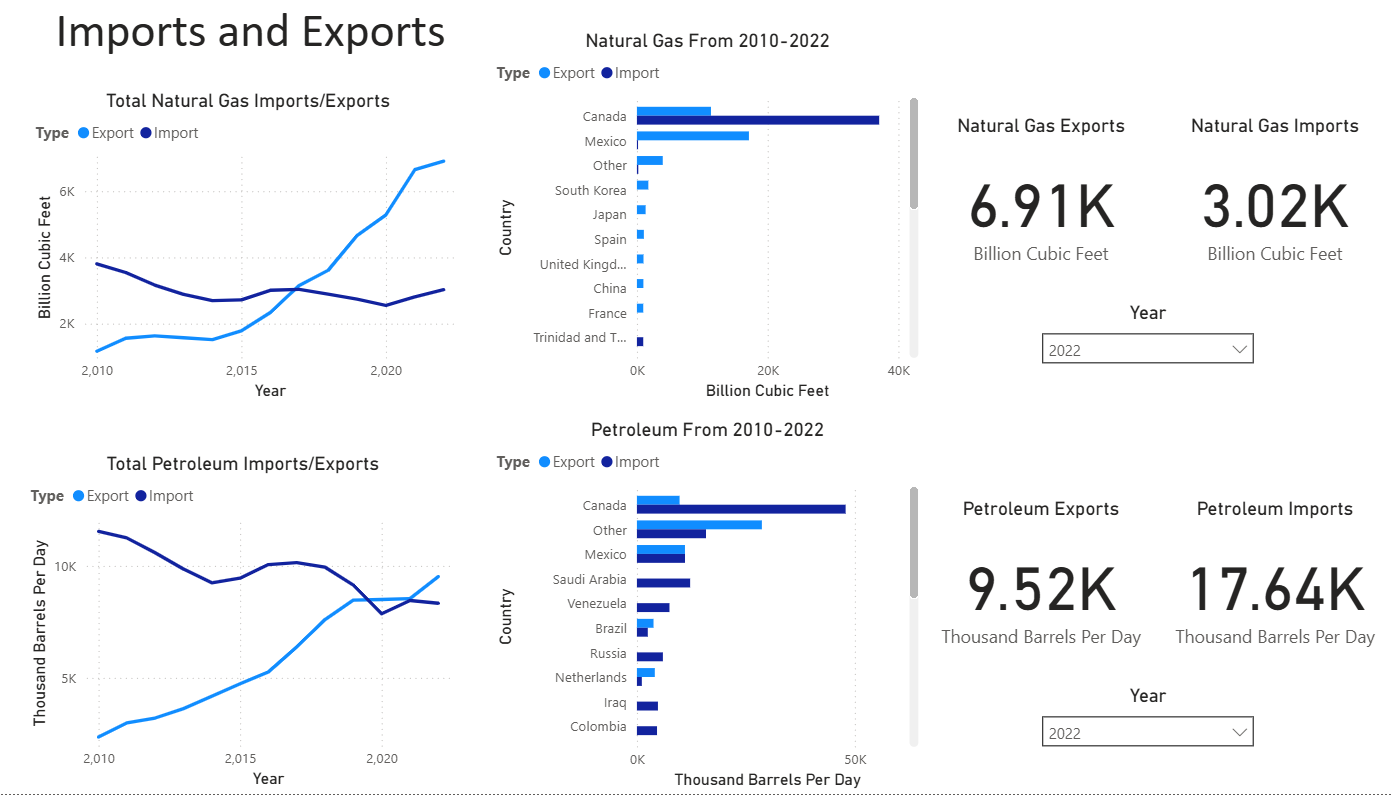

Layout of this report page (visuals, bound fields, positions):
{"tool":"powerbi","page":{"name":"International Imports/Exports","canvas":[1280,720],"ordinal":1},"visuals":[{"type":"slicer","title":"Year","fields":{"Values":["year_table.Year"]},"box":[948.3,277.2,210.1,105],"z":0},{"type":"lineChart","title":"Total Petroleum Imports/Exports","fields":{"Category":["combined_foreign_petro.Year"],"Y":["Sum(combined_foreign_petro.Value)"],"Series":["combined_foreign_petro.Type"]},"box":[44.7,413.4,391,306.4],"z":1000},{"type":"lineChart","title":"Total Natural Gas Imports/Exports","fields":{"Category":["combined_foreign_nat_gas.Year"],"Y":["Sum(combined_foreign_nat_gas.Value)"],"Series":["combined_foreign_nat_gas.Type"]},"box":[49.4,87.1,391.4,283.7],"z":2000},{"type":"clusteredBarChart","title":"Natural Gas From 2010-2022","fields":{"Category":["combined_foreign_nat_gas.Country"],"Y":["Sum(combined_foreign_nat_gas.Value)"],"Series":["combined_foreign_nat_gas.Type"]},"box":[463.2,33.2,388.7,337.6],"z":3000},{"type":"clusteredBarChart","title":"Petroleum From 2010-2022","fields":{"Category":["combined_foreign_petro.Country"],"Series":["combined_foreign_petro.Type"],"Y":["Sum(combined_foreign_petro.Value)"]},"box":[463.2,382.4,388.7,337.6],"z":4000},{"type":"card","title":"Natural Gas Exports","fields":{"Values":["Sum(Foreign_Natural_Gas_Exports.VALUE)"]},"box":[852,109.9,210.1,153.7],"z":5000},{"type":"card","title":"Natural Gas Imports","fields":{"Values":["Sum(Foreign_Natural_Gas_Imports.VALUE)"]},"box":[1062.1,109.9,210.1,153.7],"z":6000},{"type":"card","title":"Petroleum Exports","fields":{"Values":["Sum(Foreign_Petro_Exports.VALUE)"]},"box":[852,453.3,210.1,153.7],"z":7000},{"type":"card","title":"Petroleum Imports","fields":{"Values":["Sum(Foreign_Petro_Imports.VALUE)"]},"box":[1062.1,453.3,210.1,153.7],"z":8000},{"type":"slicer","title":"Year","fields":{"Values":["year_table.Year"]},"box":[948.3,621.5,210.1,78.8],"z":9000},{"type":"textbox","box":[49.6,2.9,395.9,72.9],"z":10000}]}

Visuals, with their boxes in screenshot pixels (x1, y1, x2, y2), scaled from the page's 1280x720 canvas onto the 1391x795 screenshot:
"Year" slicer: x1=1031, y1=306, x2=1259, y2=422
"Total Petroleum Imports/Exports" lineChart: x1=49, y1=456, x2=473, y2=794
"Total Natural Gas Imports/Exports" lineChart: x1=54, y1=96, x2=479, y2=409
"Natural Gas From 2010-2022" clusteredBarChart: x1=503, y1=37, x2=926, y2=409
"Petroleum From 2010-2022" clusteredBarChart: x1=503, y1=422, x2=926, y2=794
"Natural Gas Exports" card: x1=926, y1=121, x2=1154, y2=291
"Natural Gas Imports" card: x1=1154, y1=121, x2=1383, y2=291
"Petroleum Exports" card: x1=926, y1=501, x2=1154, y2=670
"Petroleum Imports" card: x1=1154, y1=501, x2=1383, y2=670
"Year" slicer: x1=1031, y1=686, x2=1259, y2=773
textbox: x1=54, y1=3, x2=484, y2=84
